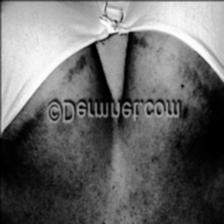Toxin: (42, 56, 85, 100), (156, 33, 198, 71)
